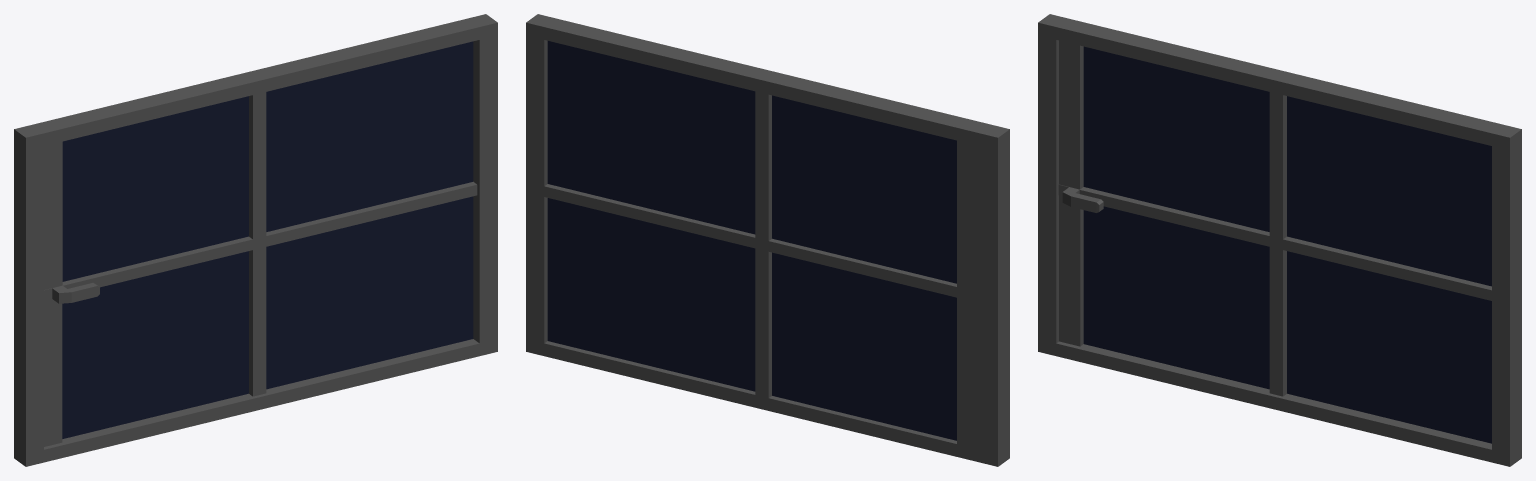
File: window4_3.fbx
3 renders of one model, left to right at view 1: azimuth 30°, elevation 25°; view 2: azimuth 150°, elevation 25°; view 3: azimuth 330°, elevation 25°, orthographic.
Visible parts, largest first — view 1: Cube; view 2: Cube; view 3: Cube.
Boxes of the visible parts, <box> form: Cube: <box>14,14,497,466</box>; Cube: <box>526,14,1009,466</box>; Cube: <box>1038,14,1521,466</box>.
Size of the model in its own units: 248 by 165 by 16.69.
